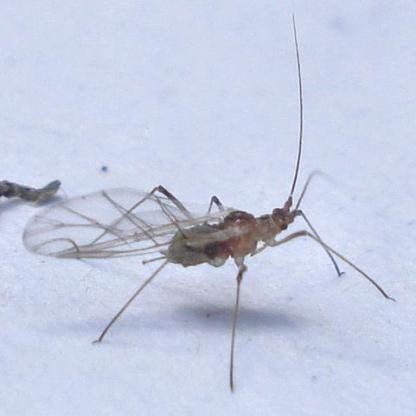aphid: (18, 15, 398, 397)
